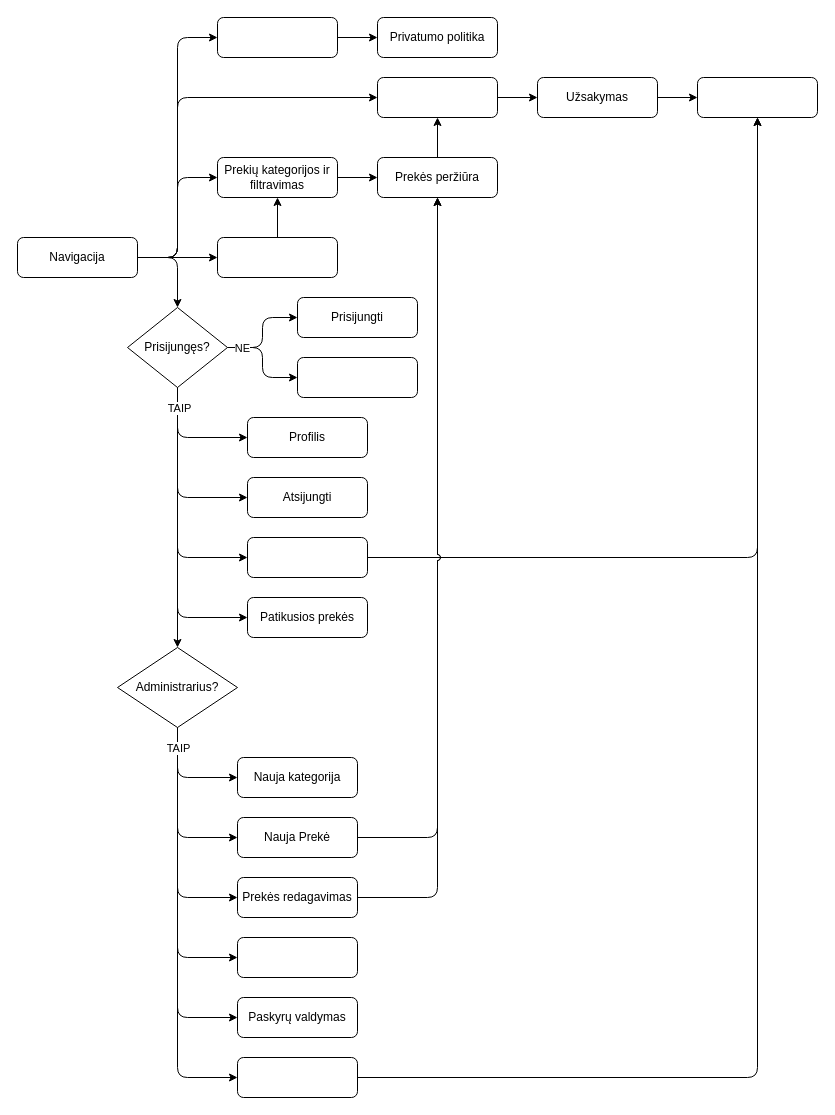
The diagram is 835 pixels wide and 1115 high, and some of its shapes have lost their labels. Here are the shapes that lost their labels. From the top down, the box of each, then its label:
(216, 16, 338, 58): D.U.K.
(376, 76, 498, 118): Krepšelis
(696, 76, 818, 118): Užsakymo peržiūra
(216, 236, 338, 278): Pagrindinis puslapis
(296, 356, 418, 398): Registruotis
(246, 536, 368, 578): Užsakymų istorija
(236, 936, 358, 978): Taisyklių redagavimas
(236, 1056, 358, 1098): Visų užsakymų peržiūra
